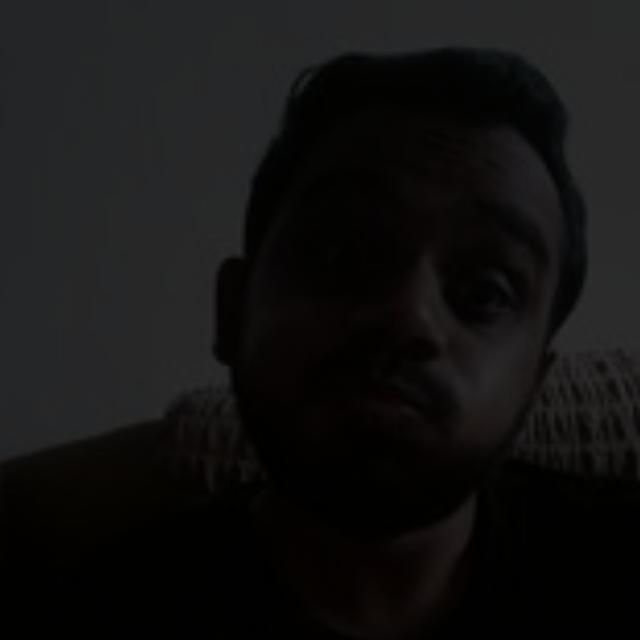Surprised: (115, 116, 598, 446)
